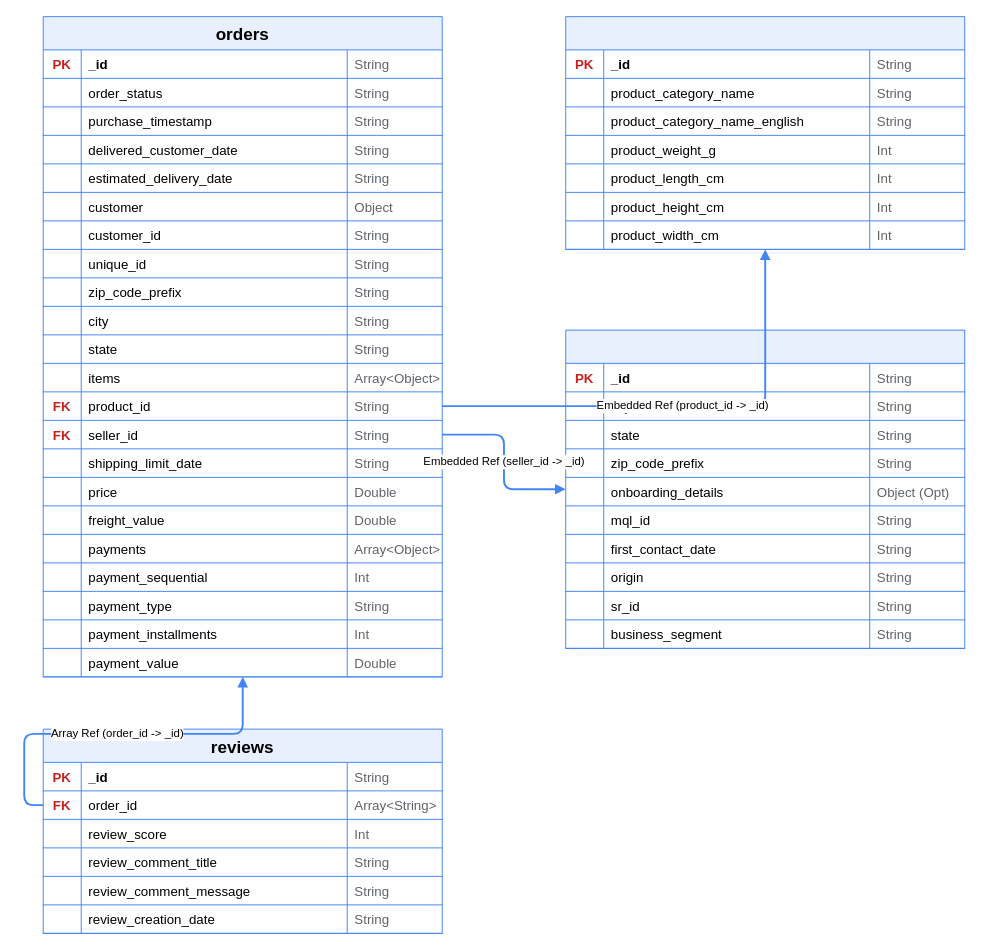
Some shapes in this 981 by 950 pixel diagram are drawn without their labels. The box of each missing label's shape, as (x1, y1, x2, y2) in pixels:
products: (565, 16, 965, 249)
sellers: (565, 329, 965, 648)
